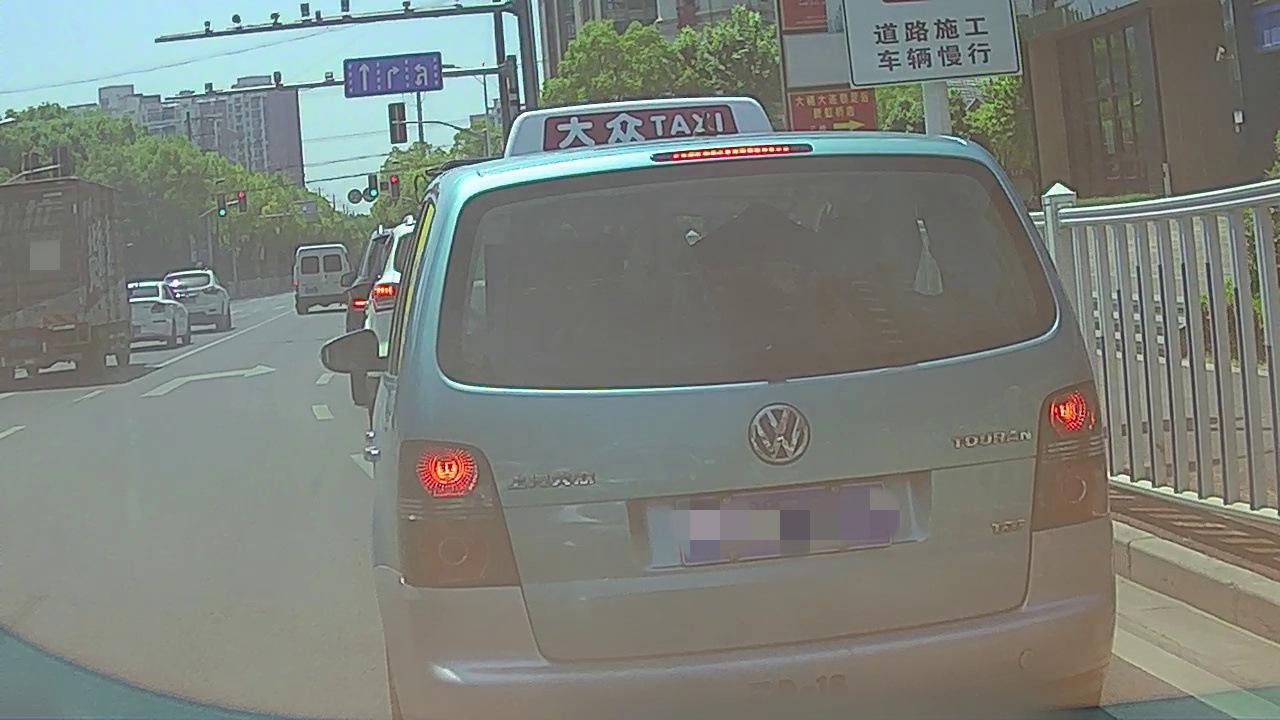traffic_light: (215, 194, 227, 217), (389, 174, 399, 198), (368, 176, 378, 197), (238, 190, 246, 214)
